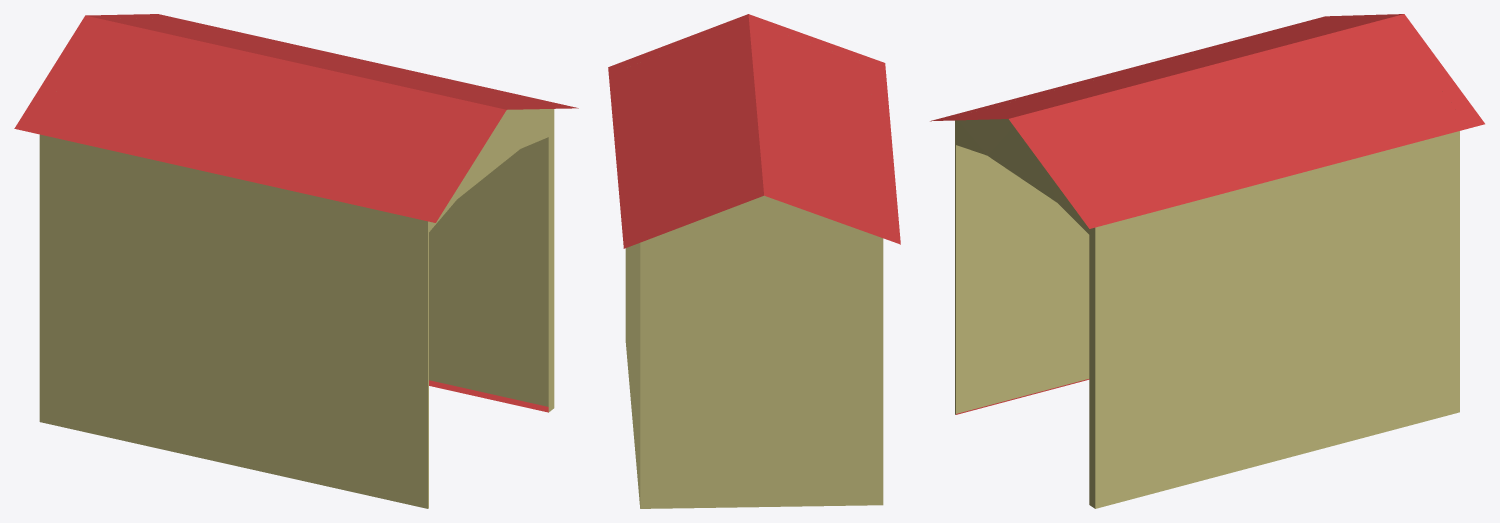
3 renders of one model, left to right at view 1: azimuth 30°, elevation 25°; view 2: azimuth 150°, elevation 25°; view 3: azimuth 270°, elevation 25°, orthographic. The views are drawn at different scales.
Size of the model in its own units: 13.64 by 15.06 by 10.34.
